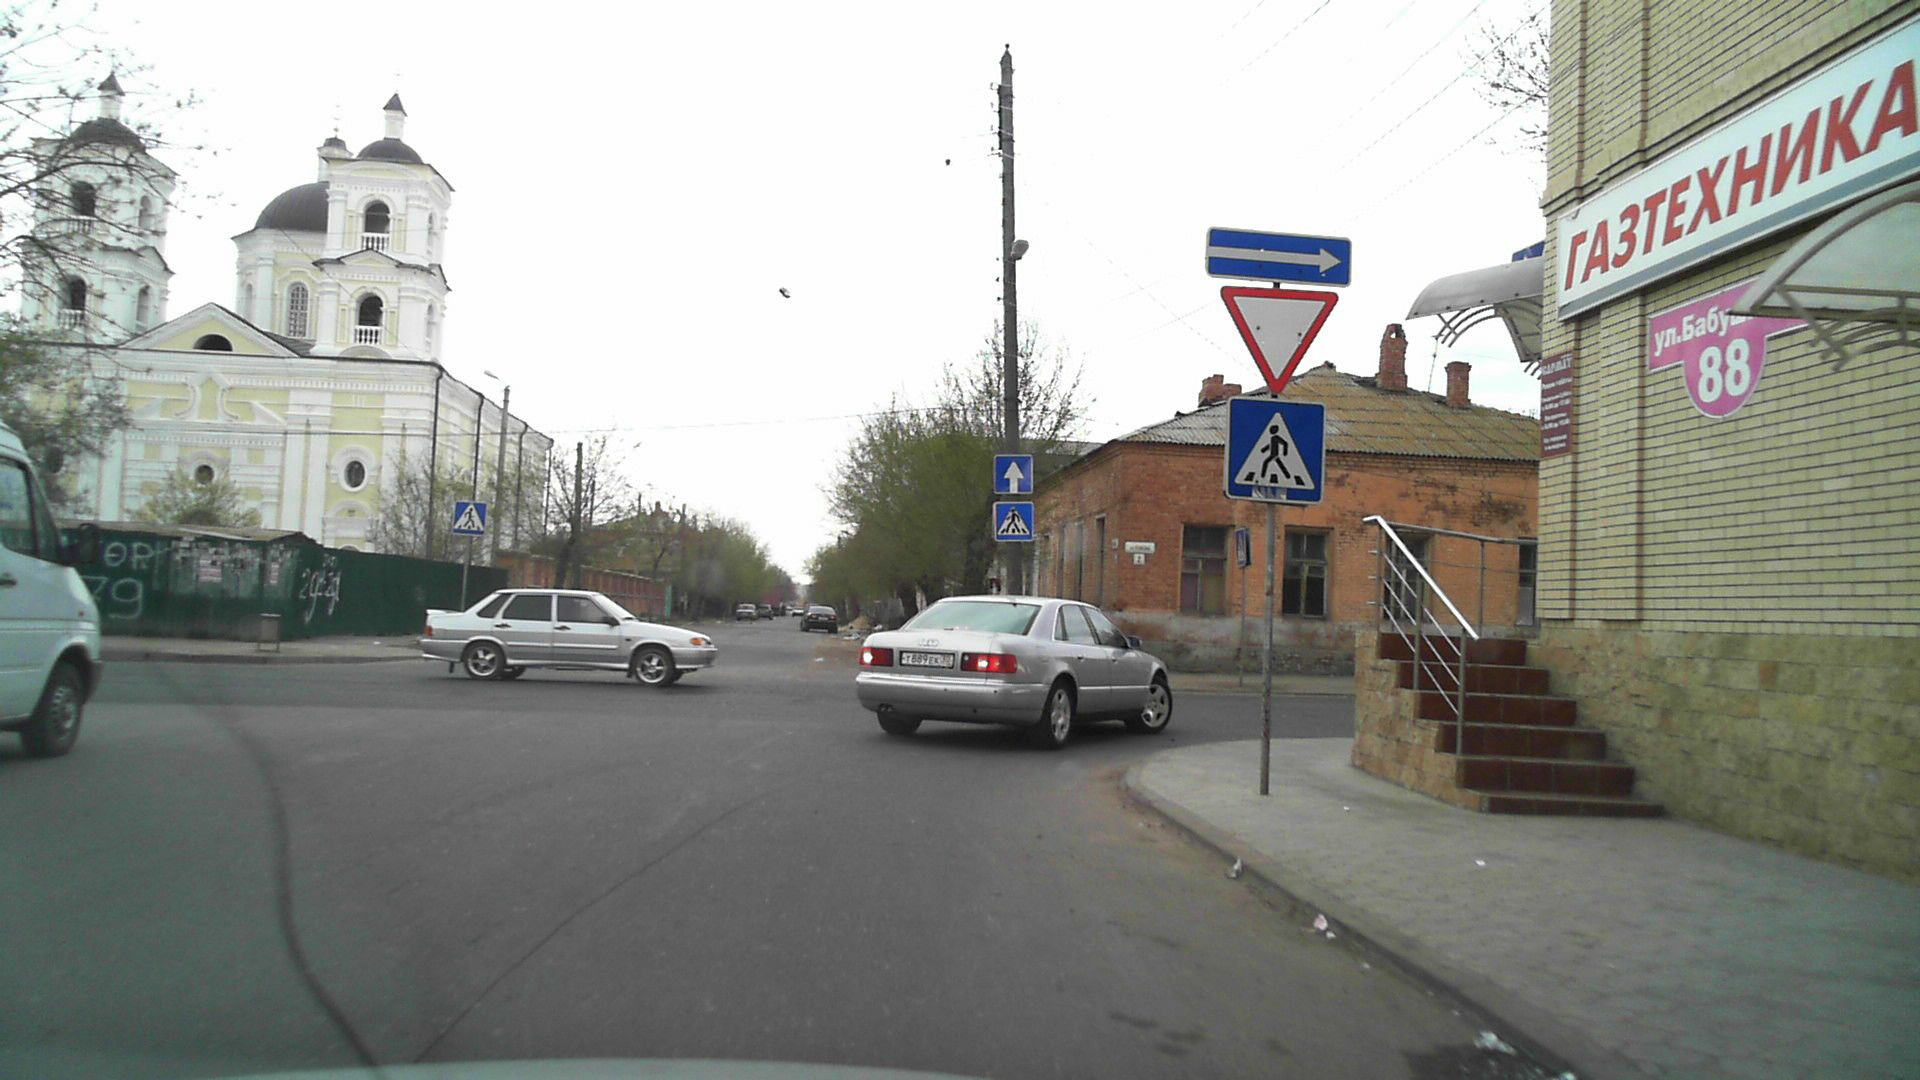One-Way Traffic: (1207, 225, 1352, 287)
Pedestrian Crossing: (1226, 398, 1325, 504), (994, 502, 1034, 542), (454, 502, 487, 534)
